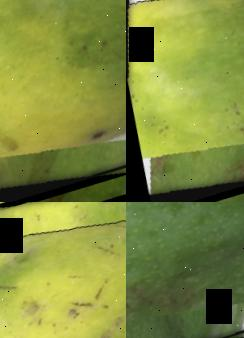PartiallyRipe: (0, 0, 126, 202), (126, 0, 244, 202), (0, 202, 126, 338)
Unripe: (126, 202, 244, 338)
